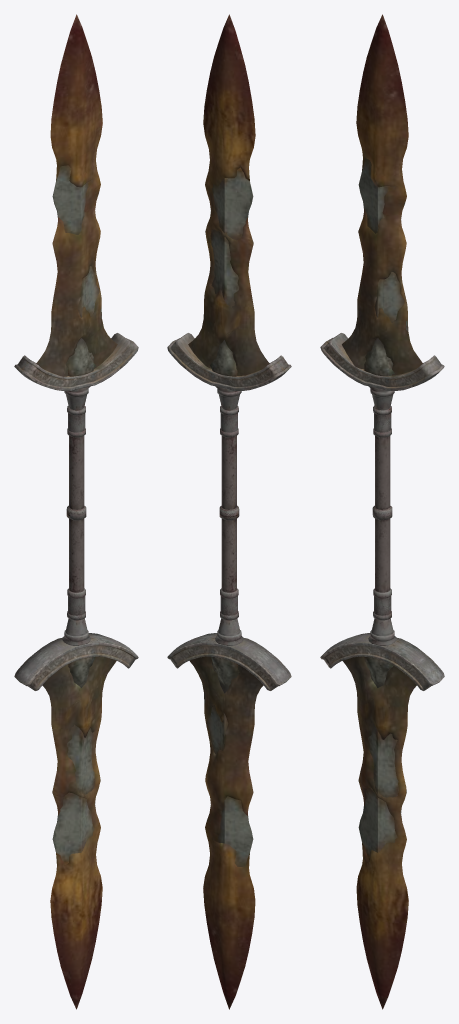
The model's file is weapon-wp_a_1109.glb.
3 renders of one model, left to right at view 1: azimuth 30°, elevation 25°; view 2: azimuth 150°, elevation 25°; view 3: azimuth 330°, elevation 25°, orthographic.
Visible parts, largest first — view 1: wp_a_1109_mesh; view 2: wp_a_1109_mesh; view 3: wp_a_1109_mesh.
Part boxes in pixels (x1,y1,x2,y2): wp_a_1109_mesh: (14,14,138,1009); wp_a_1109_mesh: (167,14,291,1009); wp_a_1109_mesh: (320,14,444,1009).
Size of the model in its own units: 0.2929 by 2.41 by 0.0634.
1 material, 1 textured.
